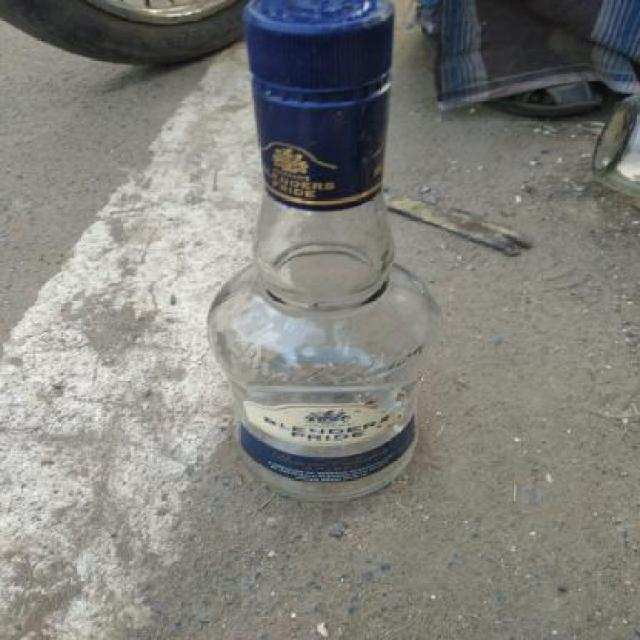garbage: (173, 0, 482, 554)
